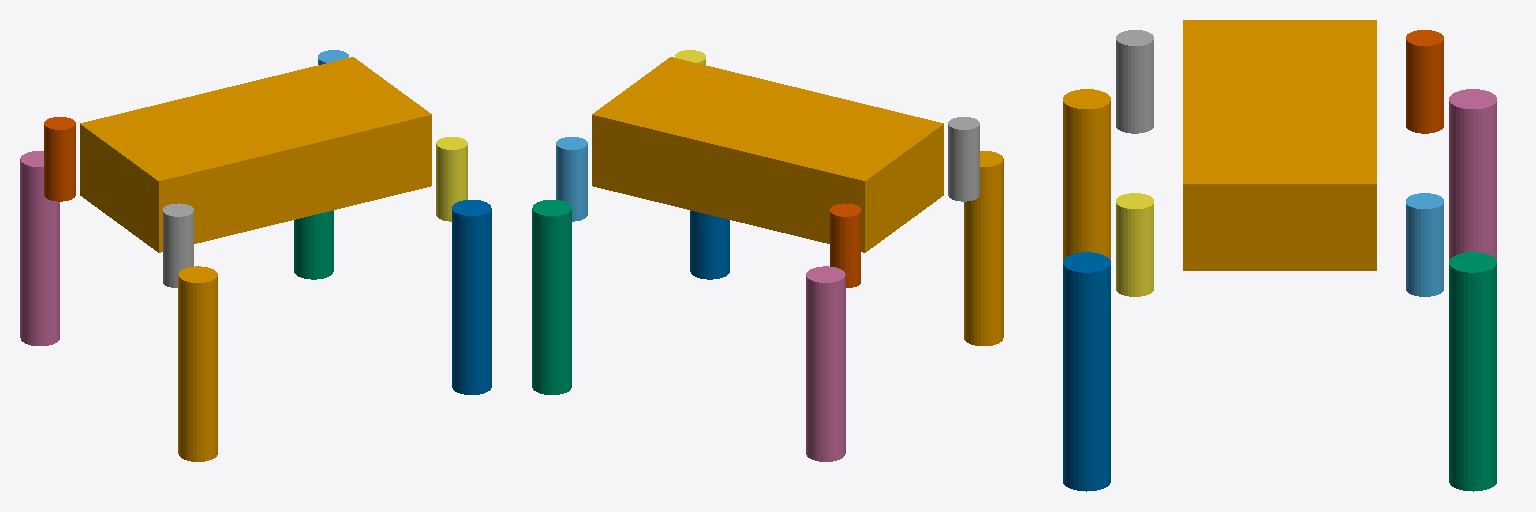
robot.urdf — quadruped:
<?xml version="1.0"?>
<robot name="quadruped">
  <link name="base_link">
    <inertial>
      <mass value="10.0"/>
      <inertia ixx="0.1" ixy="0.0" ixz="0.0" iyy="0.1" iyz="0.0" izz="0.1"/>
    </inertial>
    <visual><geometry><box size="0.4 0.2 0.1"/></geometry></visual>
    <collision><geometry><box size="0.4 0.2 0.1"/></geometry></collision>
  </link>

  <!-- FRONT LEFT -->
  <link name="FL_hip">
    <inertial><origin xyz="0 0.05 0"/><mass value="0.2"/><inertia ixx="0.005" iyy="0.005" izz="0.005"/></inertial>
    <visual><origin xyz="0 0.05 0"/><geometry><cylinder radius="0.02" length="0.1"/></geometry></visual>
    <collision><origin xyz="0 0.05 0"/><geometry><cylinder radius="0.02" length="0.1"/></geometry></collision>
  </link>
  <joint name="FL_hip_joint" type="revolute">
    <parent link="base_link"/><child link="FL_hip"/>
    <origin xyz="0.2 0.1 -0.02" rpy="0 0 0"/><axis xyz="1 0 0"/>
    <limit lower="-0.3" upper="0.3" effort="1000" velocity="10.0"/>
  </joint>

  <link name="FL_leg">
    <inertial><origin xyz="0 0 -0.125"/><mass value="1.5"/><inertia ixx="0.01" iyy="0.01" izz="0.01"/></inertial>
    <visual><origin xyz="0 0 -0.125"/><geometry><cylinder radius="0.025" length="0.25"/></geometry></visual>
    <collision><origin xyz="0 0 -0.125"/><geometry><cylinder radius="0.025" length="0.25"/></geometry></collision>
  </link>
  <joint name="FL_joint" type="revolute">
    <parent link="FL_hip"/><child link="FL_leg"/>
    <origin xyz="0 0.1 -0.02" rpy="0 0 0"/><axis xyz="0 1 0"/>
    <limit lower="-1.57" upper="1.57" effort="1000" velocity="10.0"/>
  </joint>

  <!-- FRONT RIGHT -->
  <link name="FR_hip">
    <inertial><origin xyz="0 -0.05 0"/><mass value="0.2"/><inertia ixx="0.005" iyy="0.005" izz="0.005"/></inertial>
    <visual><origin xyz="0 -0.05 0"/><geometry><cylinder radius="0.02" length="0.1"/></geometry></visual>
    <collision><origin xyz="0 -0.05 0"/><geometry><cylinder radius="0.02" length="0.1"/></geometry></collision>
  </link>
  <joint name="FR_hip_joint" type="revolute">
    <parent link="base_link"/><child link="FR_hip"/>
    <origin xyz="0.2 -0.1 -0.02" rpy="0 0 0"/><axis xyz="1 0 0"/>
    <limit lower="-0.3" upper="0.3" effort="1000" velocity="10.0"/>
  </joint>

  <link name="FR_leg">
    <inertial><origin xyz="0 0 -0.125"/><mass value="1.5"/><inertia ixx="0.01" iyy="0.01" izz="0.01"/></inertial>
    <visual><origin xyz="0 0 -0.125"/><geometry><cylinder radius="0.025" length="0.25"/></geometry></visual>
    <collision><origin xyz="0 0 -0.125"/><geometry><cylinder radius="0.025" length="0.25"/></geometry></collision>
  </link>
  <joint name="FR_joint" type="revolute">
    <parent link="FR_hip"/><child link="FR_leg"/>
    <origin xyz="0 -0.1 -0.02" rpy="0 0 0"/><axis xyz="0 1 0"/>
    <limit lower="-1.57" upper="1.57" effort="1000" velocity="10.0"/>
  </joint>

  <!-- BACK LEFT -->
  <link name="BL_hip">
    <inertial><origin xyz="0 0.05 0"/><mass value="0.2"/><inertia ixx="0.005" iyy="0.005" izz="0.005"/></inertial>
    <visual><origin xyz="0 0.05 0"/><geometry><cylinder radius="0.02" length="0.1"/></geometry></visual>
    <collision><origin xyz="0 0.05 0"/><geometry><cylinder radius="0.02" length="0.1"/></geometry></collision>
  </link>
  <joint name="BL_hip_joint" type="revolute">
    <parent link="base_link"/><child link="BL_hip"/>
    <origin xyz="-0.2 0.1 -0.02" rpy="0 0 0"/><axis xyz="1 0 0"/>
    <limit lower="-0.3" upper="0.3" effort="1000" velocity="10.0"/>
  </joint>

  <link name="BL_leg">
    <inertial><origin xyz="0 0 -0.125"/><mass value="1.5"/><inertia ixx="0.01" iyy="0.01" izz="0.01"/></inertial>
    <visual><origin xyz="0 0 -0.125"/><geometry><cylinder radius="0.025" length="0.25"/></geometry></visual>
    <collision><origin xyz="0 0 -0.125"/><geometry><cylinder radius="0.025" length="0.25"/></geometry></collision>
  </link>
  <joint name="BL_joint" type="revolute">
    <parent link="BL_hip"/><child link="BL_leg"/>
    <origin xyz="0 0.1 -0.02" rpy="0 0 0"/><axis xyz="0 1 0"/>
    <limit lower="-1.57" upper="1.57" effort="1000" velocity="10.0"/>
  </joint>

  <!-- BACK RIGHT -->
  <link name="BR_hip">
    <inertial><origin xyz="0 -0.05 0"/><mass value="0.2"/><inertia ixx="0.005" iyy="0.005" izz="0.005"/></inertial>
    <visual><origin xyz="0 -0.05 0"/><geometry><cylinder radius="0.02" length="0.1"/></geometry></visual>
    <collision><origin xyz="0 -0.05 0"/><geometry><cylinder radius="0.02" length="0.1"/></geometry></collision>
  </link>
  <joint name="BR_hip_joint" type="revolute">
    <parent link="base_link"/><child link="BR_hip"/>
    <origin xyz="-0.2 -0.1 -0.02" rpy="0 0 0"/><axis xyz="1 0 0"/>
    <limit lower="-0.3" upper="0.3" effort="1000" velocity="10.0"/>
  </joint>

  <link name="BR_leg">
    <inertial><origin xyz="0 0 -0.125"/><mass value="1.5"/><inertia ixx="0.01" iyy="0.01" izz="0.01"/></inertial>
    <visual><origin xyz="0 0 -0.125"/><geometry><cylinder radius="0.025" length="0.25"/></geometry></visual>
    <collision><origin xyz="0 0 -0.125"/><geometry><cylinder radius="0.025" length="0.25"/></geometry></collision>
  </link>
  <joint name="BR_joint" type="revolute">
    <parent link="BR_hip"/><child link="BR_leg"/>
    <origin xyz="0 -0.1 -0.02" rpy="0 0 0"/><axis xyz="0 1 0"/>
    <limit lower="-1.57" upper="1.57" effort="1000" velocity="10.0"/>
  </joint>

  <ros2_control name="IgnitionSystem" type="system">
    <hardware><plugin>gz_ros2_control/GazeboSimSystem</plugin></hardware>
    <joint name="FL_hip_joint"><command_interface name="position"/><state_interface name="position"/></joint>
    <joint name="FL_joint"><command_interface name="position"/><state_interface name="position"/></joint>
    <joint name="FR_hip_joint"><command_interface name="position"/><state_interface name="position"/></joint>
    <joint name="FR_joint"><command_interface name="position"/><state_interface name="position"/></joint>
    <joint name="BL_hip_joint"><command_interface name="position"/><state_interface name="position"/></joint>
    <joint name="BL_joint"><command_interface name="position"/><state_interface name="position"/></joint>
    <joint name="BR_hip_joint"><command_interface name="position"/><state_interface name="position"/></joint>
    <joint name="BR_joint"><command_interface name="position"/><state_interface name="position"/></joint>
  </ros2_control>

  <gazebo>
    <plugin filename="gz_ros2_control-system" name="gz_ros2_control::GazeboSimROS2ControlPlugin">
      <parameters>/home/ubuntu/quadruped_sim/leg_controllers.yaml</parameters>
    </plugin>
  </gazebo>

  <gazebo reference="FL_leg">
    <mu1>1000.0</mu1>
    <mu2>1000.0</mu2>
    <kp>1000000.0</kp>
    <kd>100.0</kd>
    <minDepth>0.005</minDepth>
  </gazebo>

  <gazebo reference="FR_leg">
    <mu1>1000.0</mu1>
    <mu2>1000.0</mu2>
    <kp>1000000.0</kp>
    <kd>100.0</kd>
    <minDepth>0.005</minDepth>
  </gazebo>

  <gazebo reference="BL_leg">
    <mu1>1000.0</mu1>
    <mu2>1000.0</mu2>
    <kp>1000000.0</kp>
    <kd>100.0</kd>
    <minDepth>0.005</minDepth>
  </gazebo>

  <gazebo reference="BR_leg">
    <mu1>1000.0</mu1>
    <mu2>1000.0</mu2>
    <kp>1000000.0</kp>
    <kd>100.0</kd>
    <minDepth>0.005</minDepth>
  </gazebo>
</robot>

--- Facts derived from the render (not from the file) ---
Views: 3 orthographic renders of the robot side by side, from view 1: azimuth 30°, elevation 25°; view 2: azimuth 150°, elevation 25°; view 3: azimuth 270°, elevation 25°.
Model quadruped with 9 links and 8 joints (8 revolute), rooted at base_link, posed every joint at zero.
Visible links, largest first — view 1: base_link, BR_leg, FR_leg, BL_leg, BL_hip, FL_leg, FR_hip, BR_hip; view 2: base_link, BL_leg, FL_leg, BR_leg, BR_hip, FR_leg, FL_hip, BL_hip; view 3: base_link, FL_leg, FR_leg, BL_leg, BR_leg, FL_hip, FR_hip, BL_hip, BR_hip.
Link boxes in pixels (x1,y1,x2,y2): base_link: (80, 57, 431, 252); BR_leg: (178, 266, 217, 461); FR_leg: (452, 200, 491, 394); BL_leg: (20, 151, 59, 345); BL_hip: (44, 117, 75, 201); FL_leg: (294, 210, 333, 279); FR_hip: (436, 137, 467, 221); BR_hip: (163, 203, 193, 287); base_link: (592, 57, 943, 252); BL_leg: (806, 266, 845, 461); FL_leg: (532, 200, 571, 394); BR_leg: (964, 151, 1003, 345); BR_hip: (948, 117, 979, 201); FR_leg: (690, 210, 729, 279); FL_hip: (556, 137, 587, 221); BL_hip: (830, 203, 860, 287); base_link: (1183, 20, 1376, 270); FL_leg: (1449, 252, 1496, 491); FR_leg: (1063, 252, 1110, 491); BL_leg: (1449, 89, 1496, 259); BR_leg: (1063, 89, 1110, 259); FL_hip: (1406, 193, 1443, 296); FR_hip: (1116, 193, 1153, 296); BL_hip: (1406, 30, 1443, 133); BR_hip: (1116, 30, 1153, 133).
Bounding box of the posed robot: 0.45 × 0.45 × 0.34 m (x, y, z).
Geometry: primitives only (box / cylinder / sphere), no mesh files.
